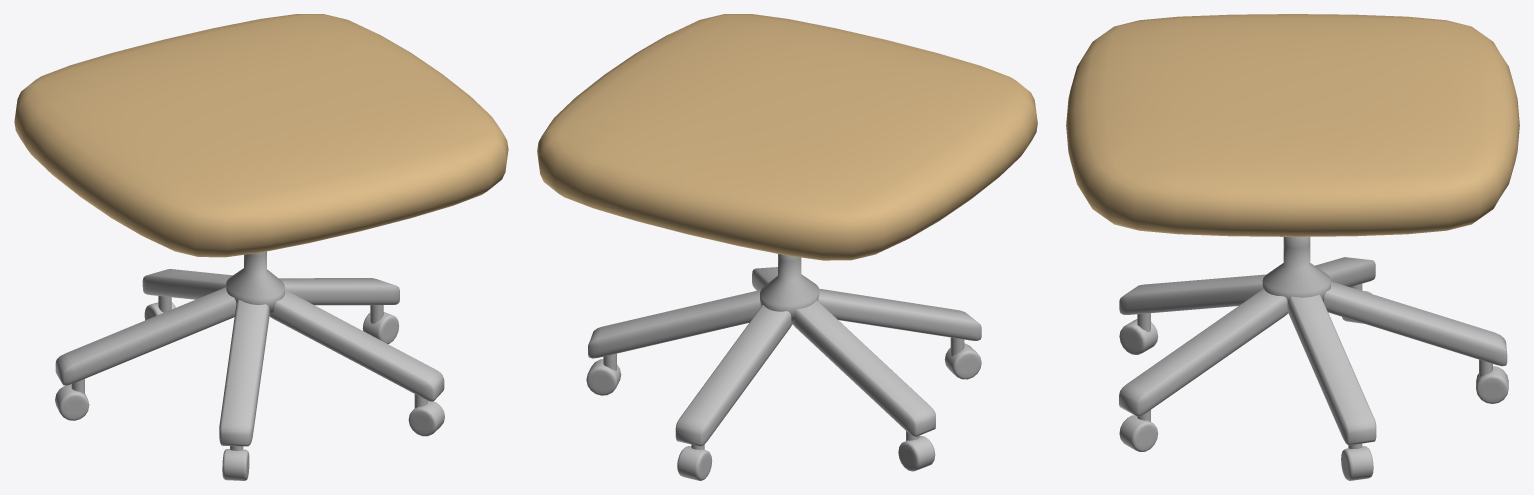
The model's file is Stool.fbx.
The picture shows the model from 3 angles, left to right: view 1: azimuth 30°, elevation 25°; view 2: azimuth 150°, elevation 25°; view 3: azimuth 270°, elevation 25°; orthographic projection. The views are drawn at different scales.
Parts seen in each view (by area): view 1: Seat, Cylinder.002, Cylinder; view 2: Seat, Cylinder.002, Cylinder; view 3: Seat, Cylinder.002, Cylinder.
Boxes of the visible parts, left/top/right/bottom form: Seat: left=14, top=14, right=508, bottom=257; Cylinder.002: left=55, top=269, right=444, bottom=480; Cylinder: left=226, top=251, right=284, bottom=314; Seat: left=537, top=14, right=1037, bottom=260; Cylinder.002: left=586, top=267, right=981, bottom=480; Cylinder: left=760, top=254, right=819, bottom=322; Seat: left=1066, top=14, right=1519, bottom=236; Cylinder.002: left=1119, top=257, right=1508, bottom=480; Cylinder: left=1262, top=236, right=1330, bottom=309.
Bounding box in the file's own units: 195 × 147 × 195.
